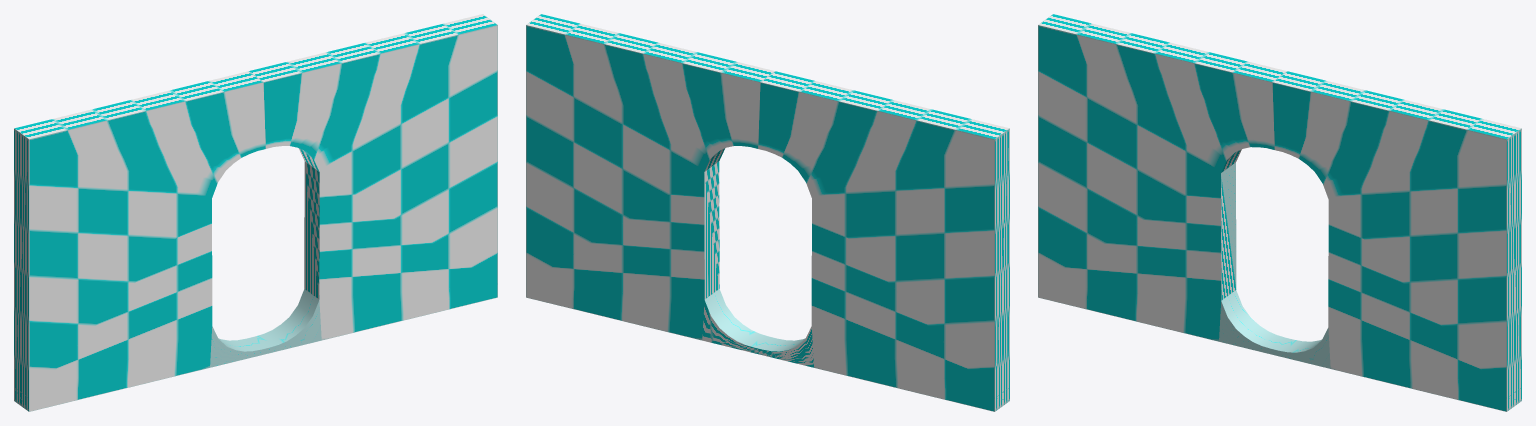
The model's file is ExitVaultFrame.fbx.
3 views of the same model, side by side, from view 1: azimuth 30°, elevation 25°; view 2: azimuth 150°, elevation 25°; view 3: azimuth 330°, elevation 25° (orthographic).
Parts seen in each view (by area): view 1: ExitVaultFrame; view 2: ExitVaultFrame; view 3: ExitVaultFrame.
Part boxes in pixels (x1=…): ExitVaultFrame: x1=14, y1=14, x2=497, y2=411; ExitVaultFrame: x1=526, y1=14, x2=1009, y2=411; ExitVaultFrame: x1=1038, y1=14, x2=1521, y2=411.
Bounding box in the file's own units: 540 × 30 × 300.
Materials: 1 (1 with a texture image).
